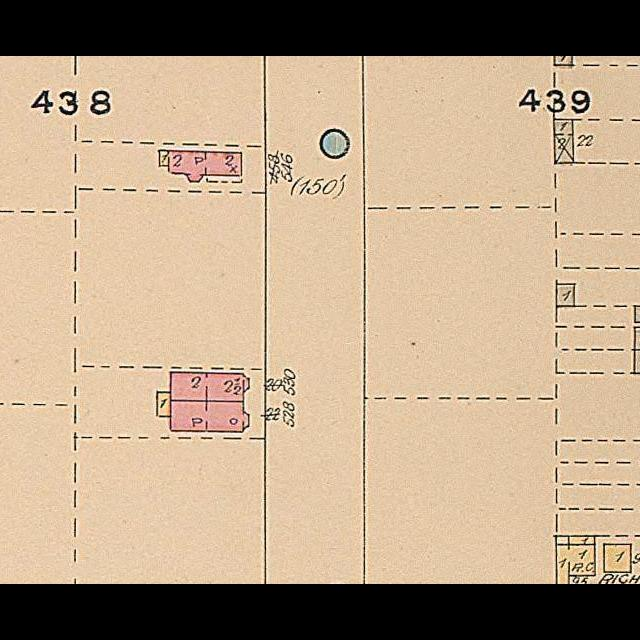building-footprints: (159, 150, 242, 182), (170, 400, 249, 432), (170, 372, 249, 402), (556, 544, 595, 584), (554, 119, 573, 163), (604, 544, 631, 572), (556, 284, 575, 306), (157, 392, 170, 417), (569, 535, 595, 545), (555, 56, 572, 65), (635, 350, 640, 374), (635, 327, 640, 350), (635, 306, 640, 323)
